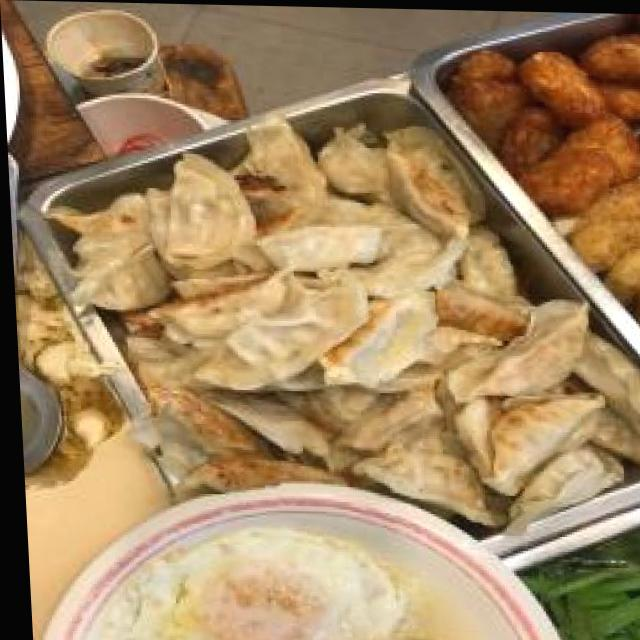fried_dumplings: (145, 169, 513, 494)
fried_eggs: (94, 523, 404, 640)
triangle_hash_brown: (452, 56, 640, 172)
